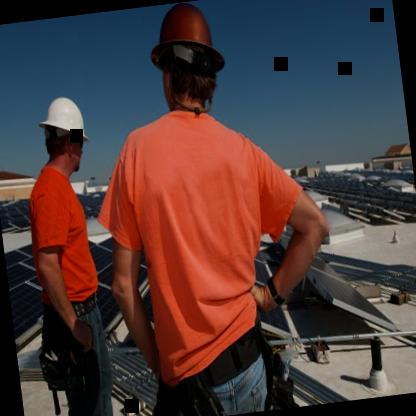helmet: (138, 0, 231, 126), (27, 82, 98, 188)
